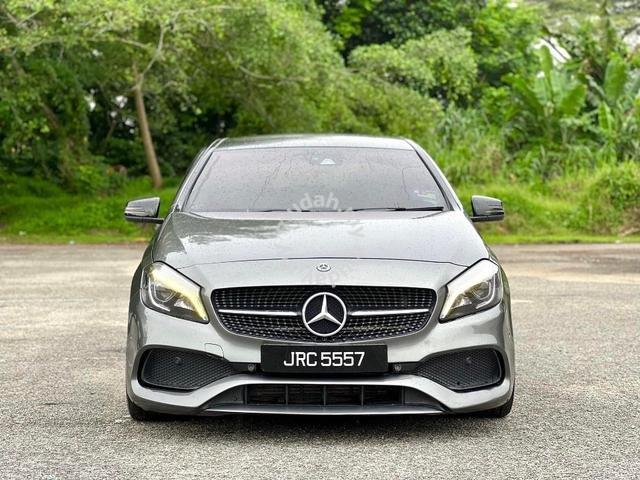License_Plate: (270, 346, 384, 374)
car: (117, 131, 520, 431)
